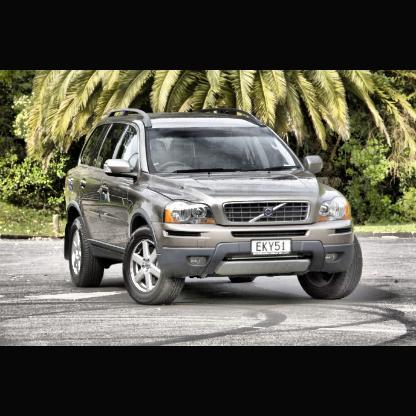Volvo XC90 SUV 2007: (62, 106, 364, 305)
